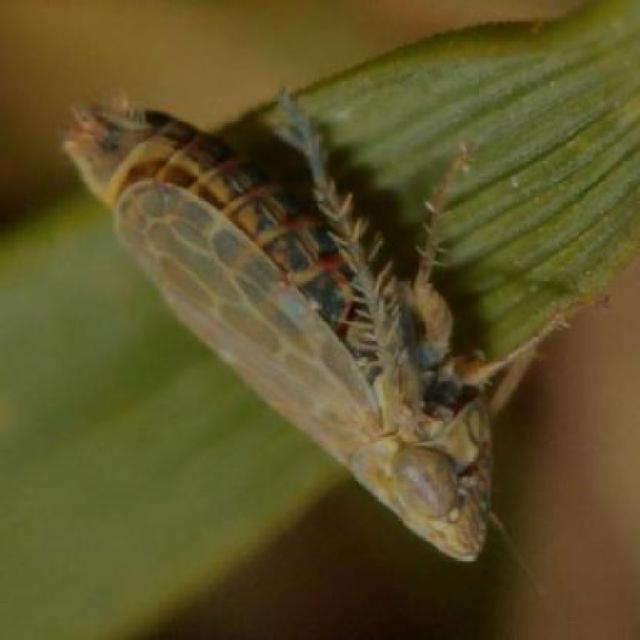green-leafhopper: (74, 87, 514, 564)
